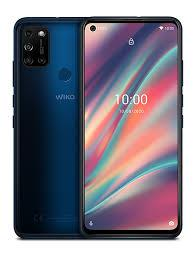Smartphone: (83, 16, 178, 233), (11, 15, 82, 241)
